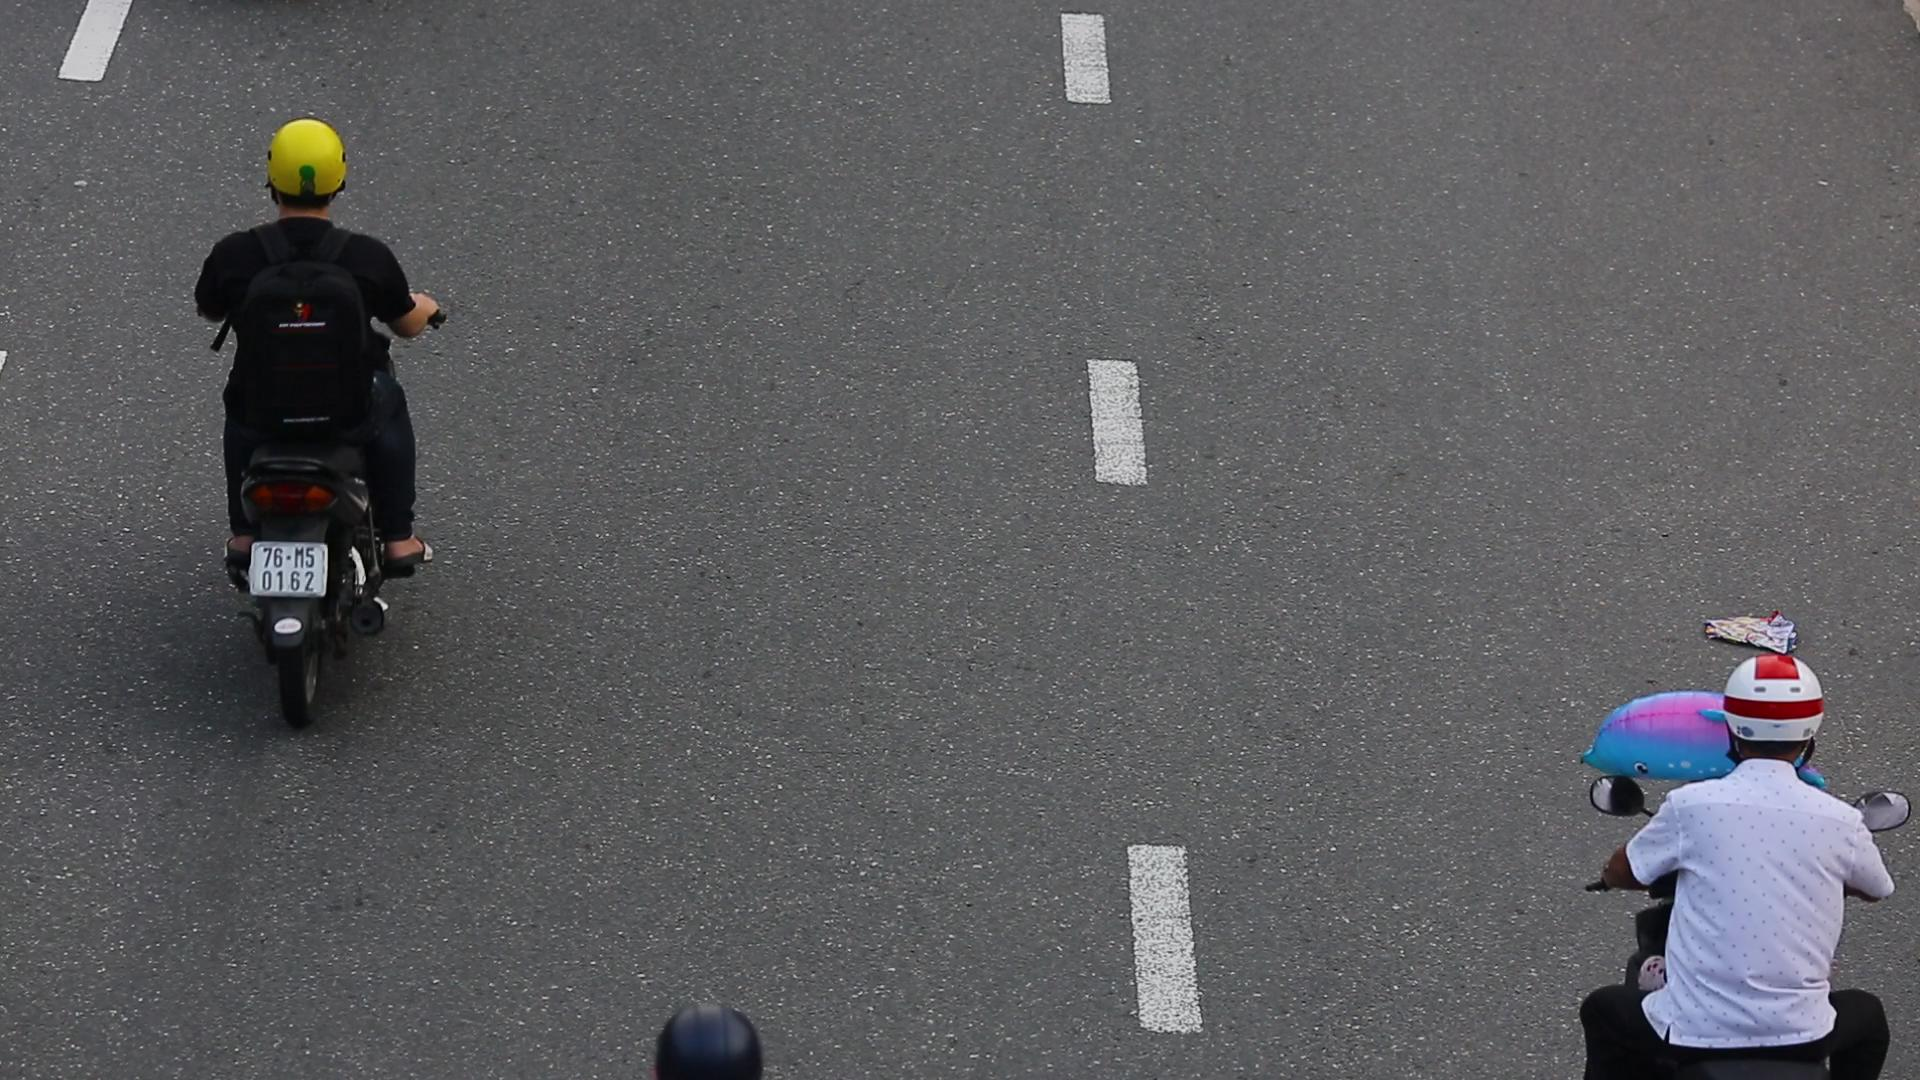motobike: (175, 104, 454, 731)
